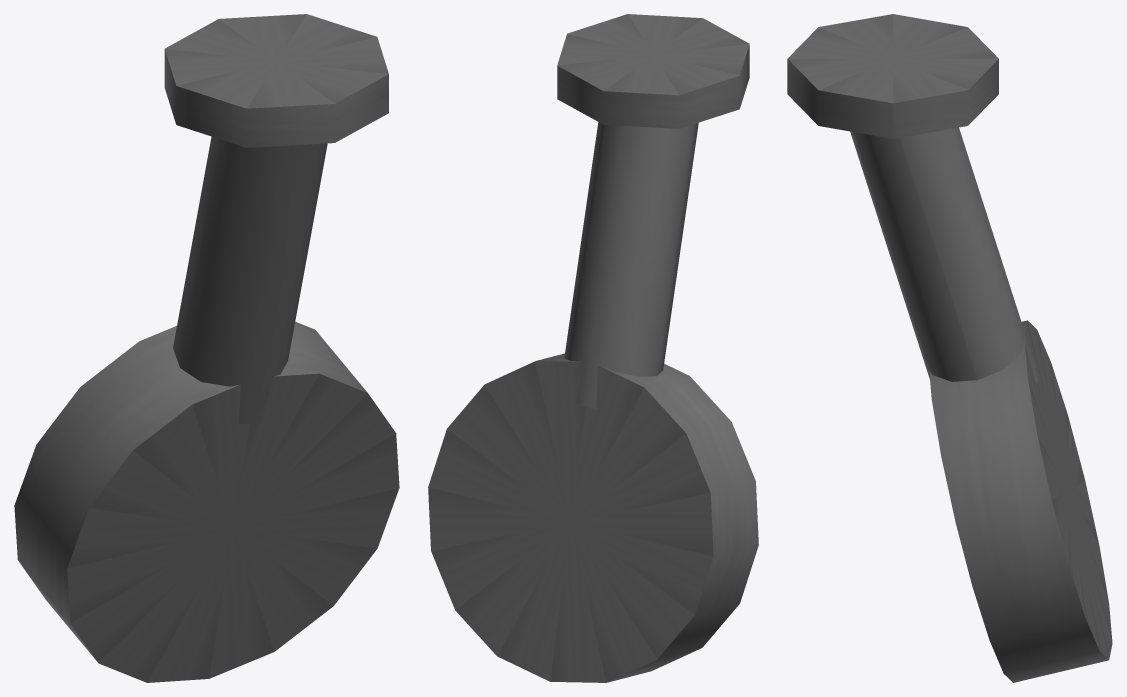
The model's file is mastarmcurve_5x1_c2_up.obj.
3 renders of one model, left to right at view 1: azimuth 30°, elevation 25°; view 2: azimuth 150°, elevation 25°; view 3: azimuth 270°, elevation 25°, orthographic. The views are drawn at different scales.
Visible parts, largest first — view 1: mastarm_5x1_c2_up; view 2: mastarm_5x1_c2_up; view 3: mastarm_5x1_c2_up.
Part boxes in pixels (x1,y1,x2,y2): mastarm_5x1_c2_up: (14,14,399,682); mastarm_5x1_c2_up: (428,14,758,682); mastarm_5x1_c2_up: (787,14,1112,682).
Bounding box in the file's own units: 0.6614 × 1.27 × 0.6148.
